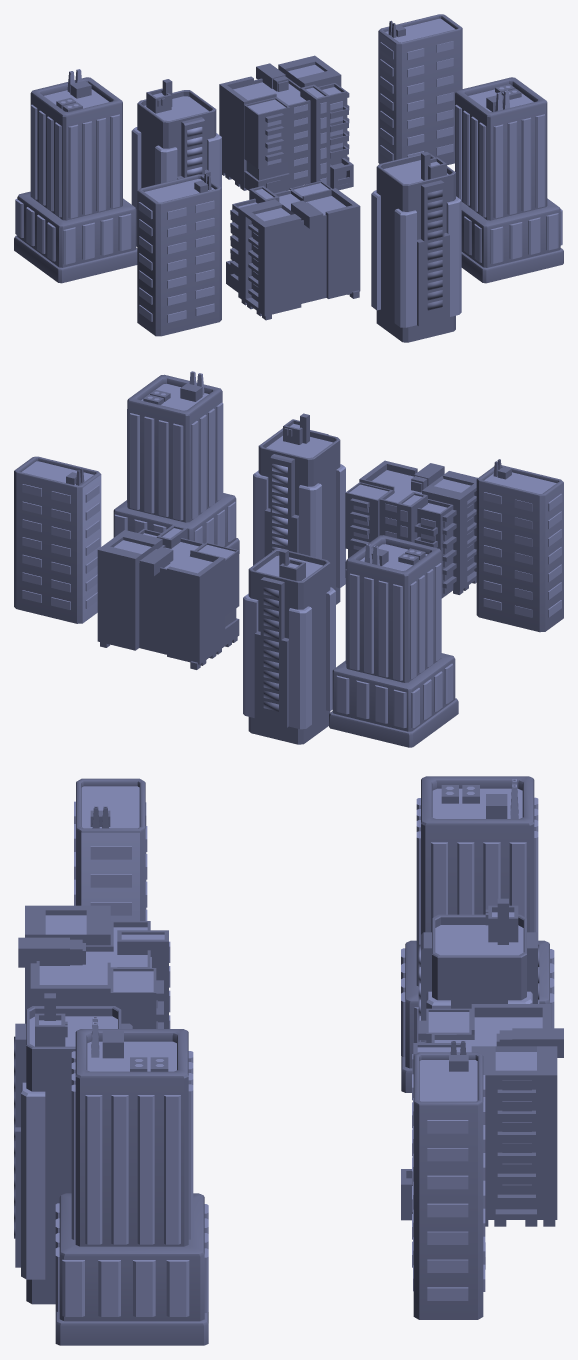
File: For Environment2.fbx
3 renders of one model, top to bottom at view 1: azimuth 30°, elevation 25°; view 2: azimuth 150°, elevation 25°; view 3: azimuth 270°, elevation 25°, orthographic. The views are drawn at different scales.
Visible parts, largest first — view 1: 196_building.003, 196_building.002, 198_building.002, 64_building .003, 64_building .002, 63_building .003, 63_building .002, 198_building.003; view 2: 196_building.003, 64_building .003, 198_building.003, 196_building.002, 63_building .003, 63_building .002, 198_building.002, 64_building .002; view 3: 196_building.002, 196_building.003, 63_building .002, 64_building .003, 198_building.002, 64_building .002, 198_building.003, 63_building .003.
Boxes of the visible parts, bbox=[...] form: 196_building.003: bbox=[14, 69, 137, 283]; 196_building.002: bbox=[455, 77, 563, 283]; 198_building.002: bbox=[371, 152, 461, 342]; 64_building .003: bbox=[219, 55, 353, 193]; 64_building .002: bbox=[226, 180, 360, 320]; 63_building .003: bbox=[137, 173, 221, 336]; 63_building .002: bbox=[378, 14, 462, 165]; 198_building.003: bbox=[131, 79, 221, 246]; 196_building.003: bbox=[329, 535, 458, 747]; 64_building .003: bbox=[97, 525, 239, 669]; 198_building.003: bbox=[243, 548, 335, 744]; 196_building.002: bbox=[113, 371, 239, 553]; 63_building .003: bbox=[476, 459, 563, 632]; 63_building .002: bbox=[14, 456, 101, 623]; 198_building.002: bbox=[253, 413, 345, 604]; 64_building .002: bbox=[345, 460, 477, 598]; 196_building.002: bbox=[55, 1016, 208, 1345]; 196_building.003: bbox=[401, 776, 554, 1092]; 63_building .002: bbox=[412, 1041, 485, 1319]; 64_building .003: bbox=[401, 1004, 563, 1226]; 198_building.002: bbox=[14, 993, 132, 1304]; 64_building .002: bbox=[18, 905, 170, 1028]; 198_building.003: bbox=[418, 898, 539, 1041]; 63_building .003: bbox=[74, 778, 147, 920].
Size of the model in its own units: 6.19 by 2.95 by 4.38.
